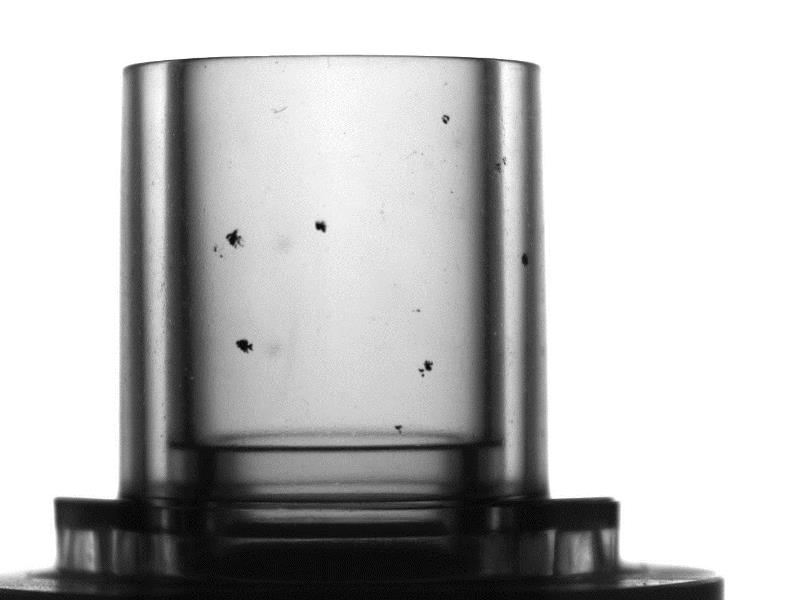blackdot: (226, 227, 245, 248), (234, 337, 255, 353), (418, 356, 434, 377), (313, 217, 329, 232), (519, 251, 533, 265), (393, 424, 408, 437), (440, 112, 452, 126)
